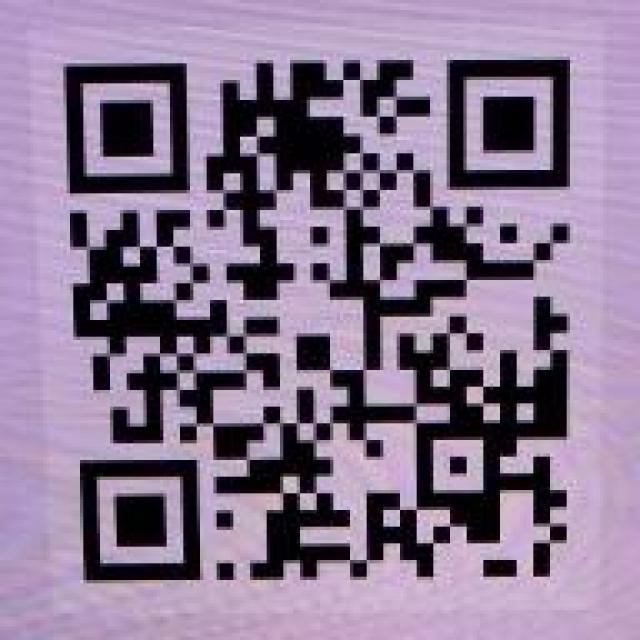qr_code: (64, 59, 572, 583)
